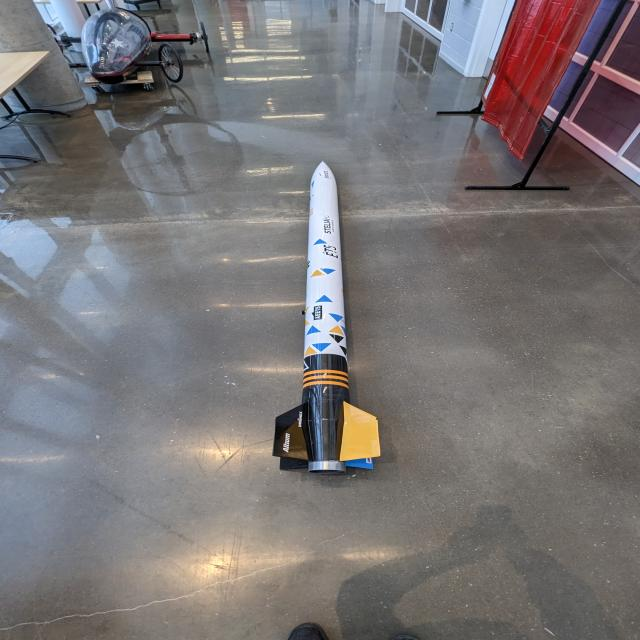Rocket: (272, 160, 381, 474)
